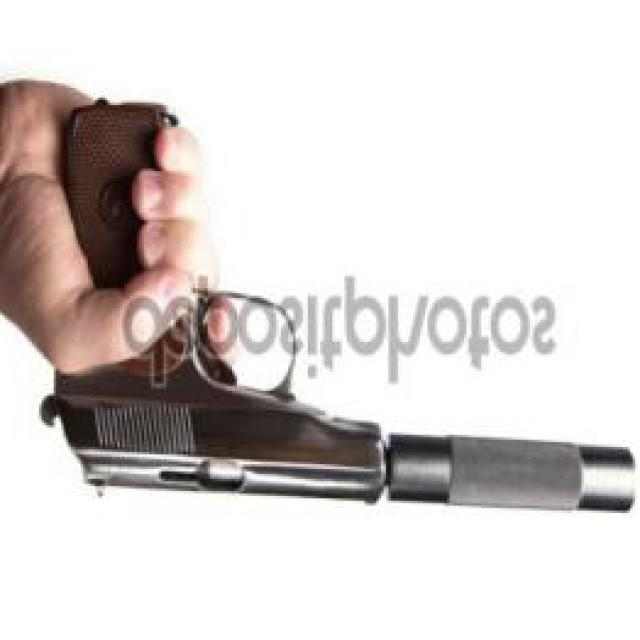pistol: (46, 97, 378, 506)
